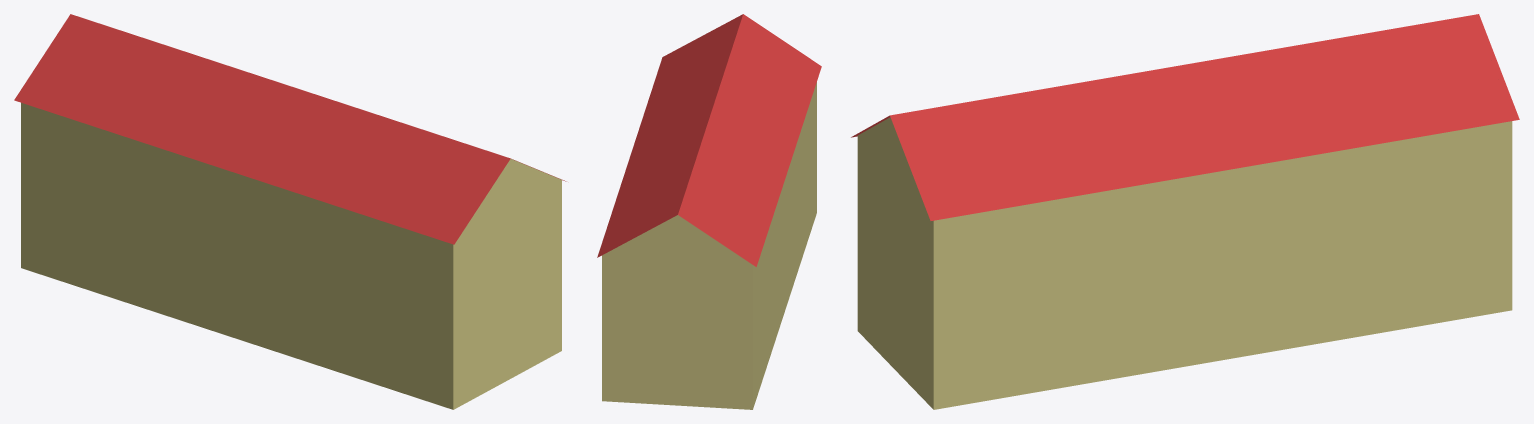
The picture shows the model from 3 angles, left to right: view 1: azimuth 30°, elevation 25°; view 2: azimuth 150°, elevation 25°; view 3: azimuth 270°, elevation 25°; orthographic projection. The views are drawn at different scales.
Bounding box in the file's own units: 19.37 × 29.63 × 12.46.
